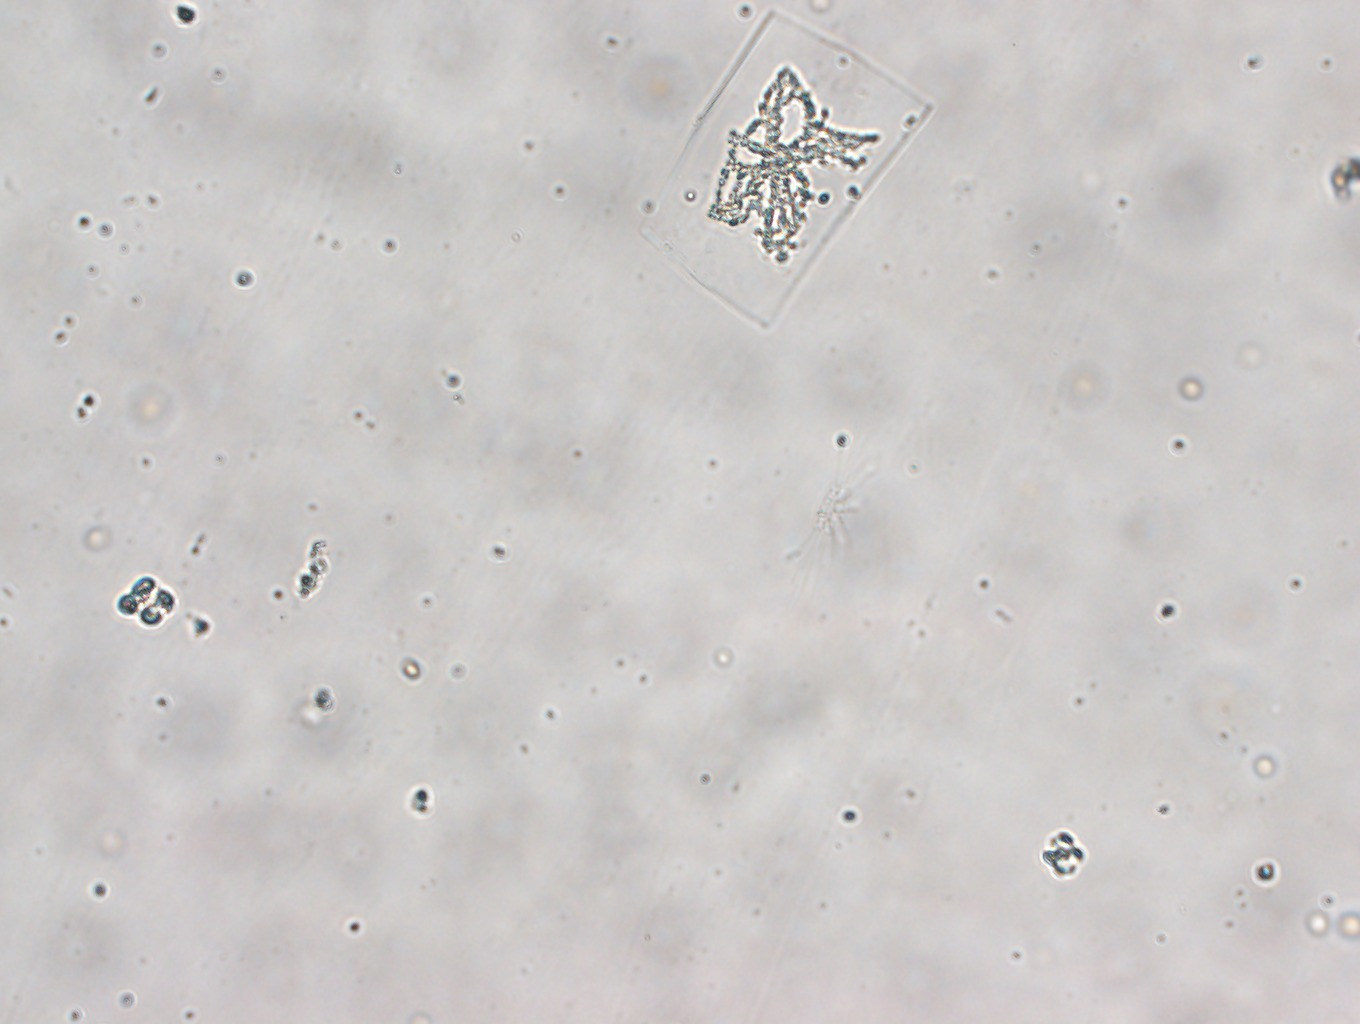helicotheca: (638, 8, 937, 331)
